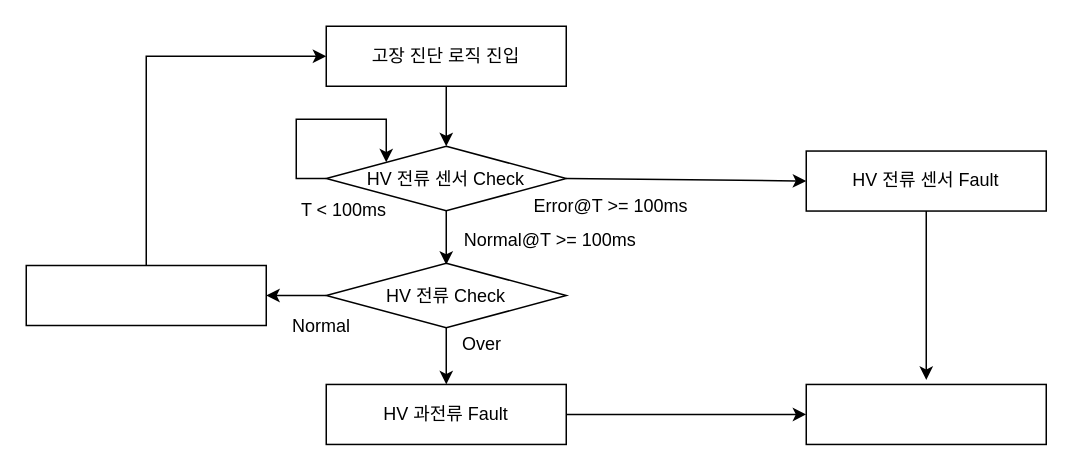
Some shapes in this 1073 by 471 pixel diagram are drawn without their labels. The centre of each missing label's shape, as x and y in pixels:
작동 정지 후 기본 로직 수행: (925,413)
정상 동작: (145,295)
